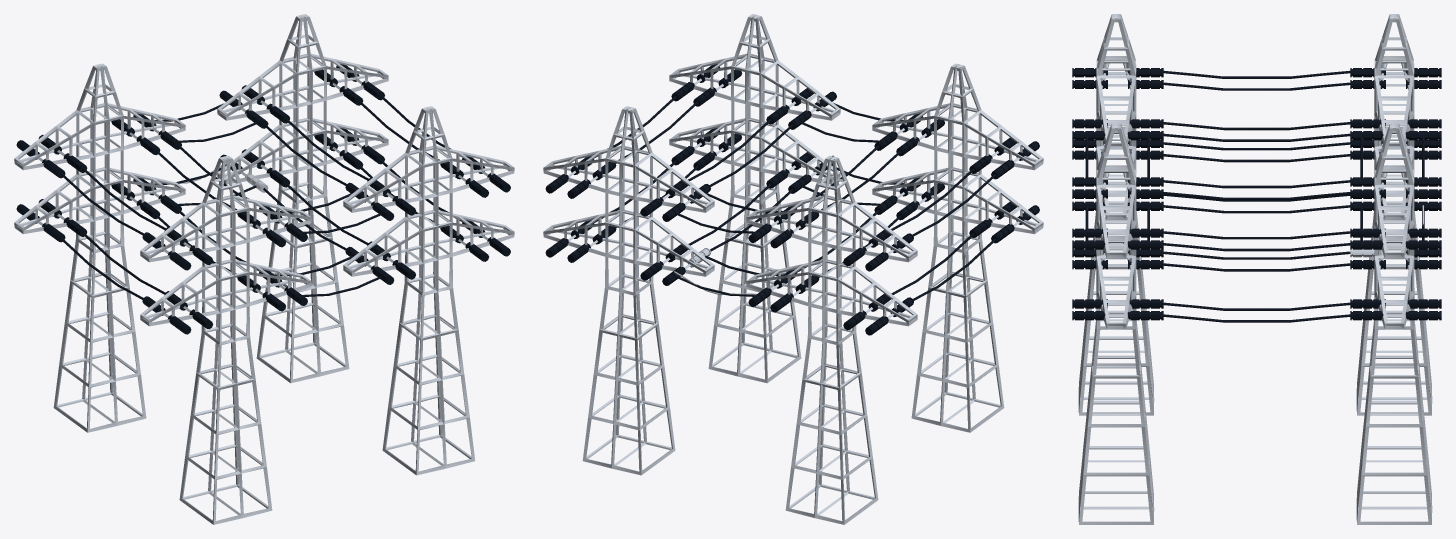
The model's file is electrical-pylons-quadra.fbx.
The picture shows the model from 3 angles, left to right: view 1: azimuth 30°, elevation 25°; view 2: azimuth 150°, elevation 25°; view 3: azimuth 270°, elevation 25°; orthographic projection. The views are drawn at different scales.
Visible parts, largest first — view 1: 7.2 electrical-pylons-quadra; view 2: 7.2 electrical-pylons-quadra; view 3: 7.2 electrical-pylons-quadra.
Part boxes in pixels (left/top/right/bottom): 7.2 electrical-pylons-quadra: left=14, top=14, right=514, bottom=524; 7.2 electrical-pylons-quadra: left=543, top=14, right=1043, bottom=524; 7.2 electrical-pylons-quadra: left=1072, top=14, right=1441, bottom=524.
Size of the model in its own units: 8.98 by 8.16 by 7.12.
